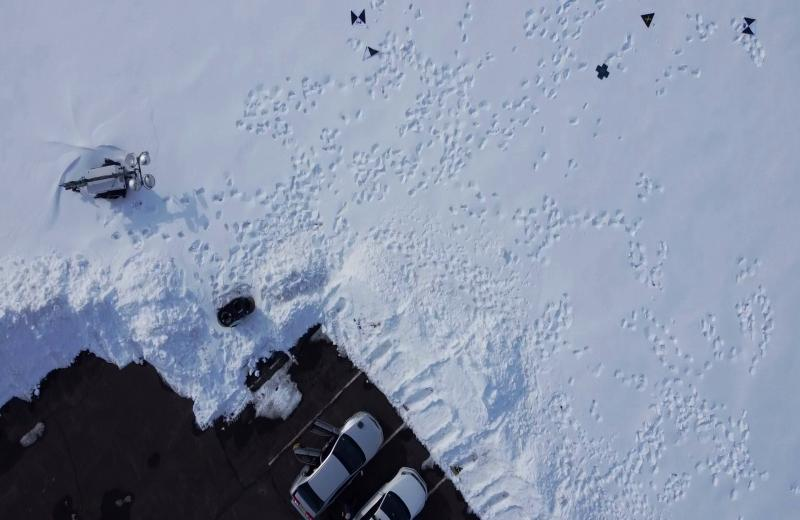Cross: (593, 62, 612, 82)
Triangle: (639, 11, 657, 30)
